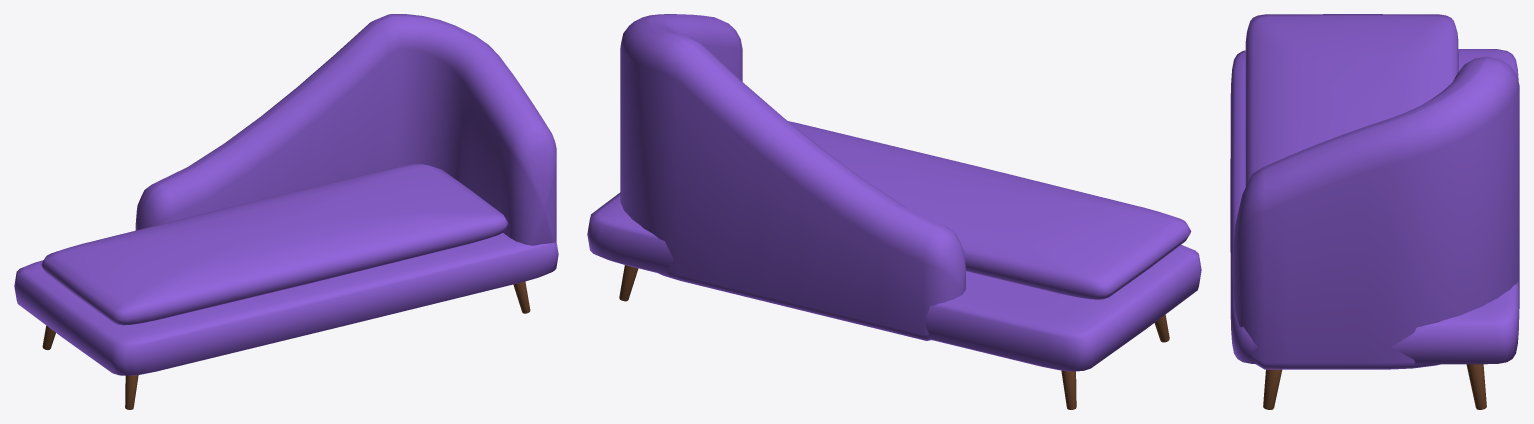
File: chaise_longue_roxa.glb
3 views of the same model, side by side, from view 1: azimuth 30°, elevation 25°; view 2: azimuth 150°, elevation 25°; view 3: azimuth 270°, elevation 25° (orthographic). The views are drawn at different scales.
Visible parts, largest first — view 1: chaise_longue_roxa; view 2: chaise_longue_roxa; view 3: chaise_longue_roxa.
Boxes of the visible parts, x1,y1,x2,y2 form: chaise_longue_roxa: [14, 14, 558, 409]; chaise_longue_roxa: [587, 14, 1201, 409]; chaise_longue_roxa: [1230, 14, 1519, 409].
Size of the model in its own units: 1.75 by 0.9206 by 0.76.
1 material, 1 textured.
